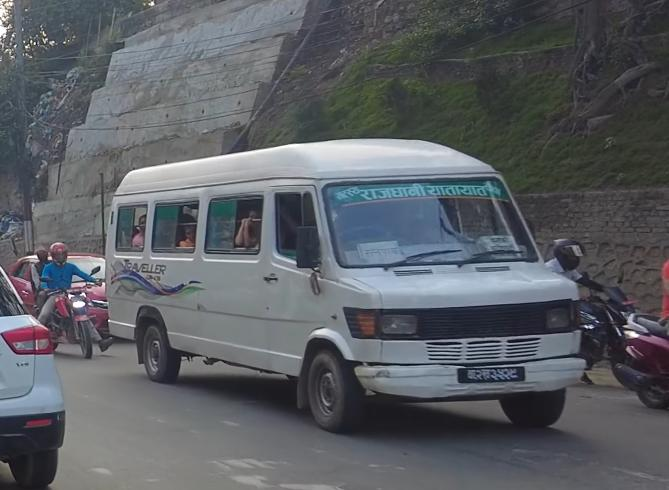bike: (31, 269, 101, 363)
car: (0, 260, 68, 490)
micro_bus: (94, 133, 589, 439)
scooter: (624, 308, 669, 412)
